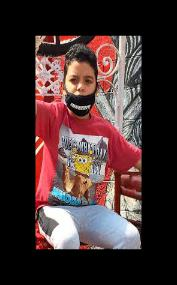mask_weared_incorrect: (63, 71, 97, 109)
